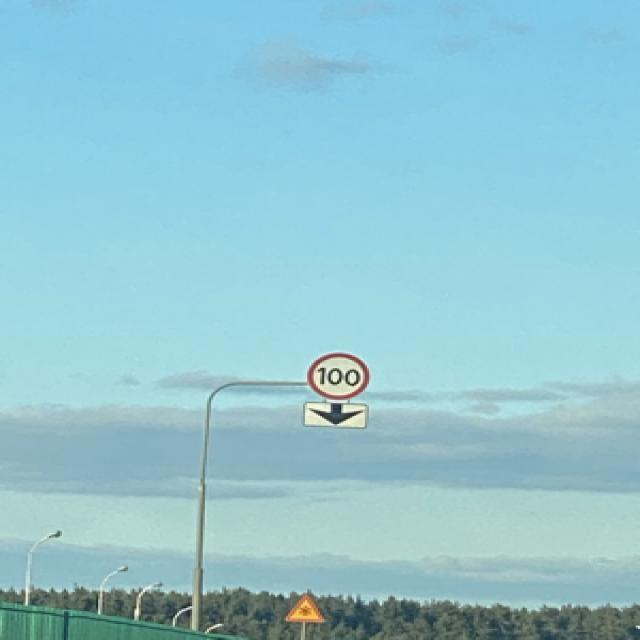speedlimit: (303, 349, 367, 397)
